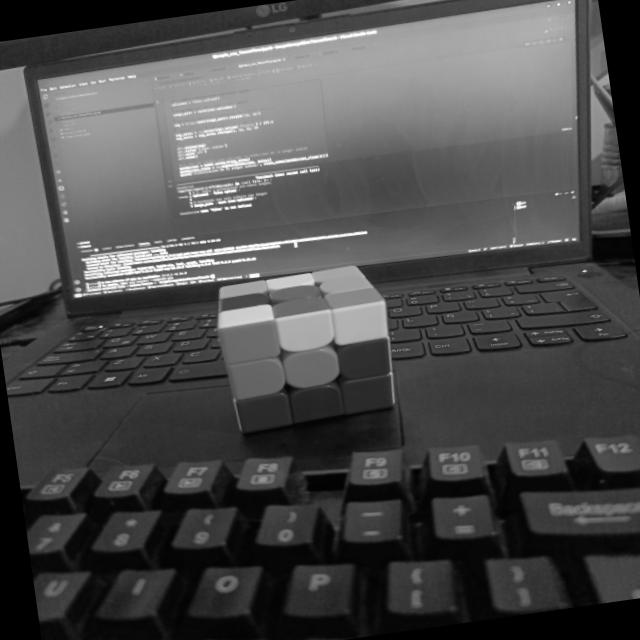rubik: (208, 260, 402, 436)
